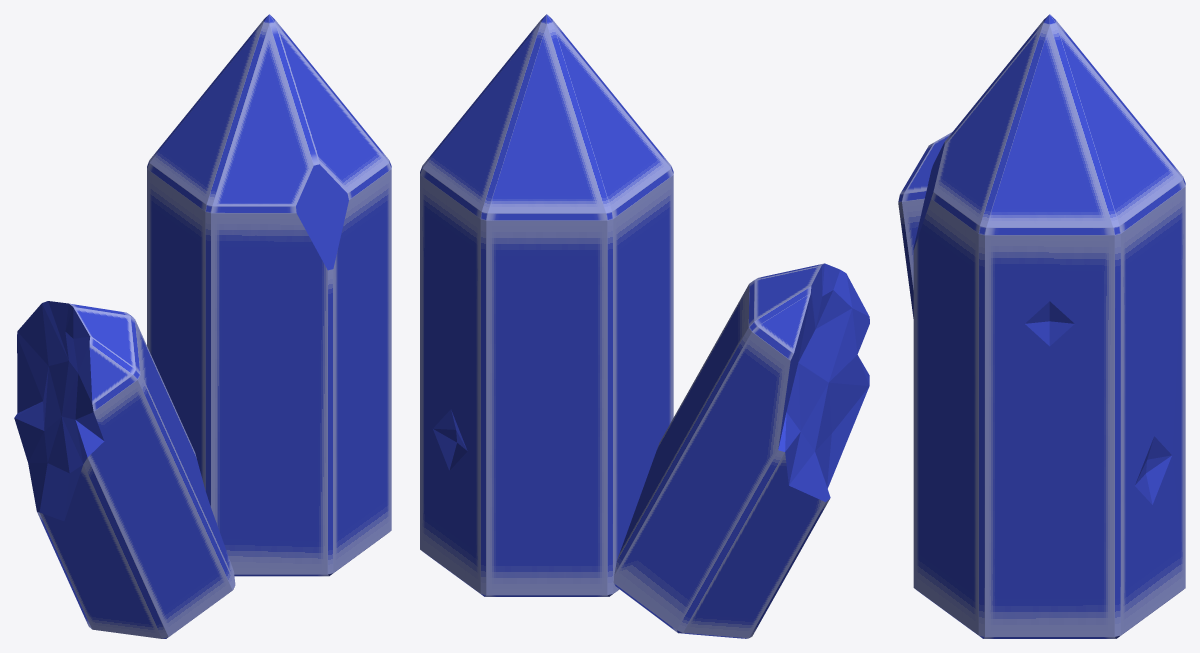
The model's file is crystalTree1.fbx.
The picture shows the model from 3 angles, left to right: view 1: azimuth 30°, elevation 25°; view 2: azimuth 150°, elevation 25°; view 3: azimuth 270°, elevation 25°; orthographic projection. The views are drawn at different scales.
Visible parts, largest first — view 1: Circle; view 2: Circle; view 3: Circle.
Part boxes in pixels (box(x1,y1,x2,y2)): Circle: box(14, 14, 391, 638); Circle: box(420, 14, 869, 638); Circle: box(898, 14, 1185, 638).
Bounding box in the file's own units: 3.21 × 5.01 × 2.08.
